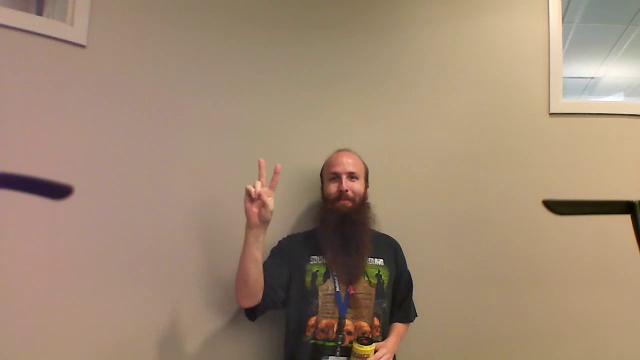peace: (235, 151, 286, 234)
